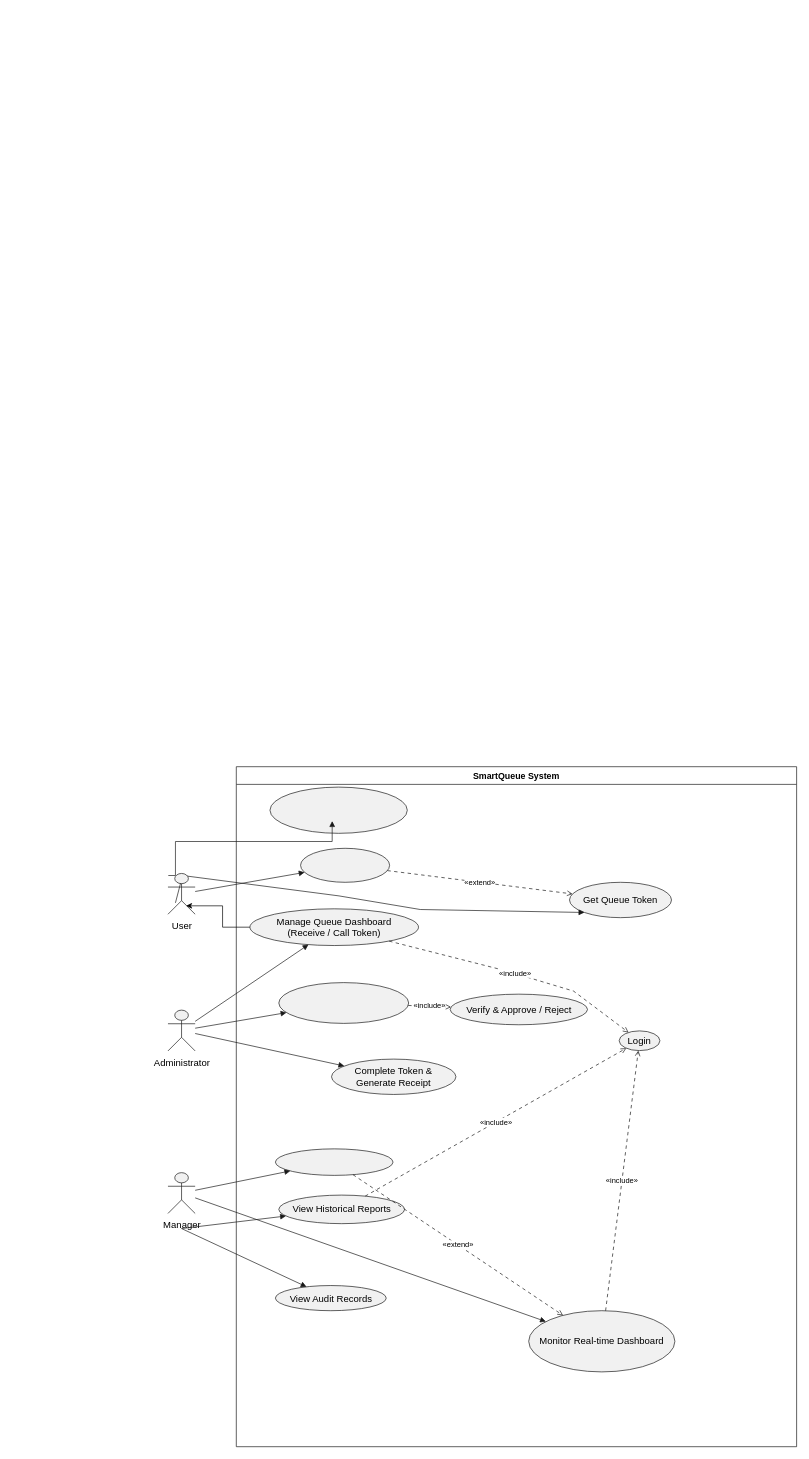
This 809x1459 diagram has some shape labels left out. Each missing label, with the box of its shape:
Cancel Token: (300, 848, 390, 882)
Process Service Request: (278, 982, 409, 1023)
Receive Queue Alerts: (275, 1148, 393, 1175)
View Queue Status & Waiting Time: (269, 786, 407, 833)
